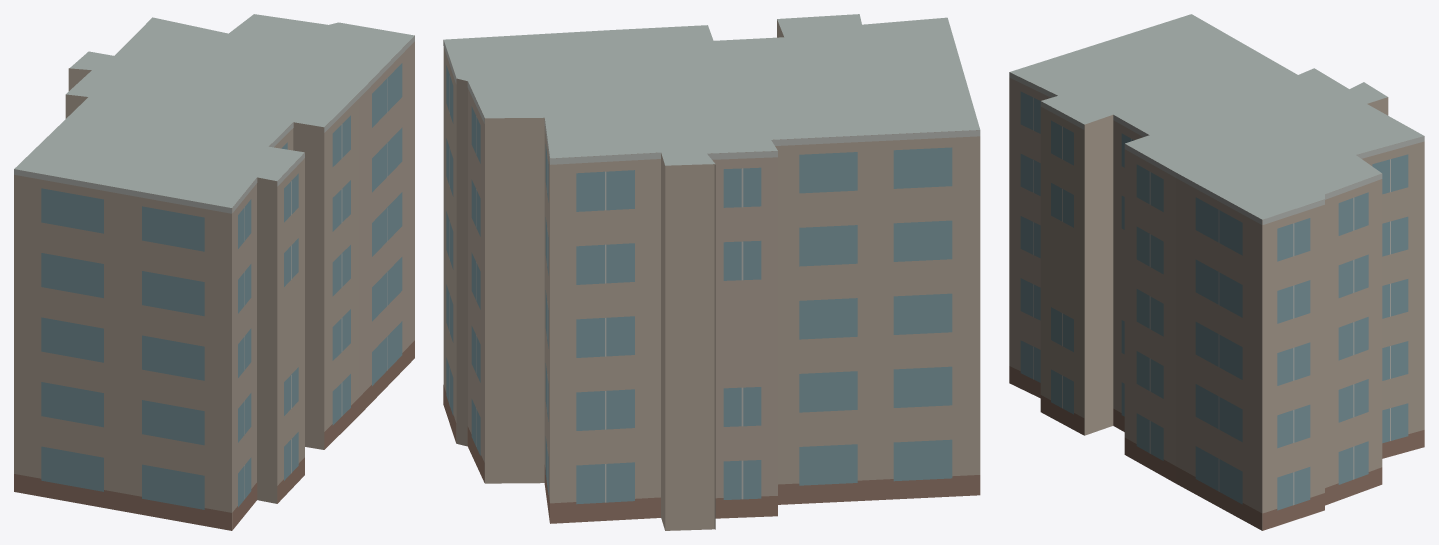
The model's file is survey-upis-32756835.glb.
The picture shows the model from 3 angles, left to right: view 1: azimuth 30°, elevation 25°; view 2: azimuth 150°, elevation 25°; view 3: azimuth 270°, elevation 25°; orthographic projection. The views are drawn at different scales.
Visible parts, largest first — view 1: survey-upis-32756835.tmp; view 2: survey-upis-32756835.tmp; view 3: survey-upis-32756835.tmp.
Boxes of the visible parts, x1,y1,x2,y2 form: survey-upis-32756835.tmp: (14,14,414,530); survey-upis-32756835.tmp: (443,14,980,530); survey-upis-32756835.tmp: (1009,14,1424,530).
Size of the model in its own units: 19.72 by 13.9 by 16.82.
